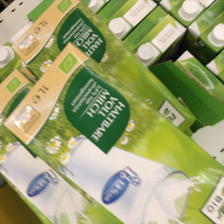milk: (7, 42, 224, 223)
